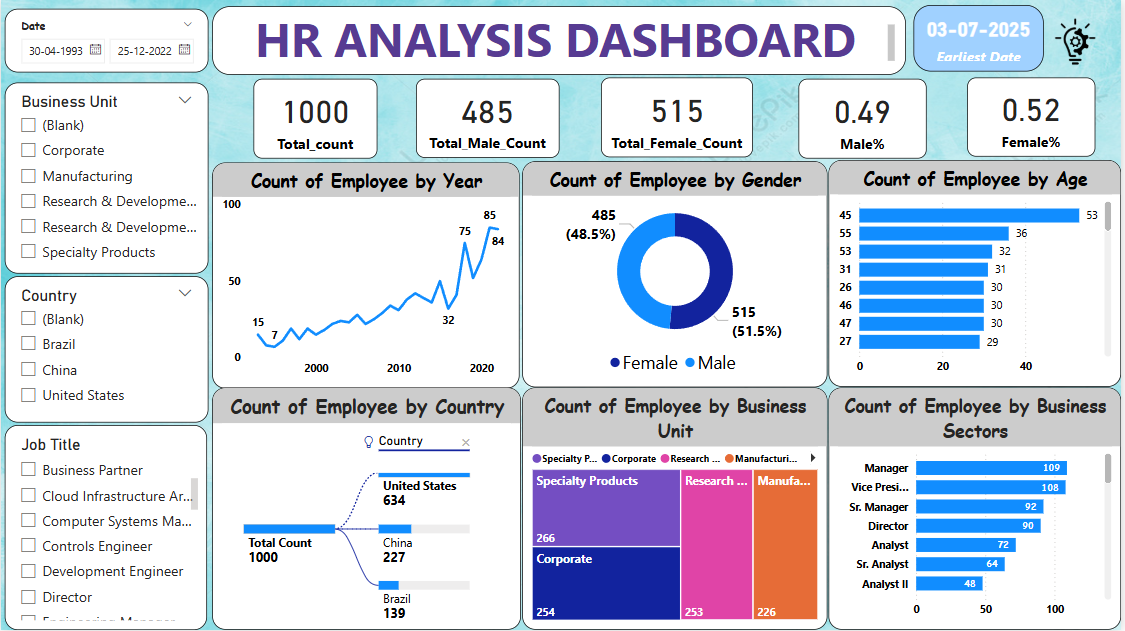

The dashboard page shown, as its layout file describes it:
{"tool":"powerbi","page":{"name":"HR Dashboard","canvas":[1280,720],"ordinal":0},"visuals":[{"type":"lineChart","title":"Count of Employee by Year","fields":{"Category":["Employee Data.Hire Date.Variation.Date Hierarchy.Year"],"Y":["CountNonNull(Employee Data.Employee ID)"]},"box":[241.2,185,351.2,258.8],"z":0},{"type":"donutChart","title":"Count of Employee by Gender","fields":{"Category":["Employee Data.Gender"],"Y":["CountNonNull(Employee Data.Employee ID)"]},"box":[595,183.8,348.8,258.8],"z":1000},{"type":"clusteredBarChart","title":"Count of Employee by Age","fields":{"Category":["Employee Data.Age"],"Y":["CountNonNull(Employee Data.Employee ID)"]},"box":[945.8,183.4,334.2,259.4],"z":2000},{"type":"decompositionTreeVisual","title":"Count of Employee by Country","fields":{"Analyze":["CountNonNull(Employee Data.Employee ID)"],"ExplainBy":["Employee Data.Country"]},"box":[241.4,442.9,352.9,277.1],"z":3000},{"type":"treemap","title":"Count of Employee by Business Unit","fields":{"Group":["Employee Data.Business Unit"],"Values":["CountNonNull(Employee Data.Employee ID)"]},"box":[595.7,442.9,348.6,277.1],"z":4000},{"type":"clusteredBarChart","title":"Count of Employee by Business Sectors","fields":{"Category":["Employee Data.Job Title"],"Y":["CountNonNull(Employee Data.Employee ID)"]},"box":[945.7,442.9,334.3,277.1],"z":5000},{"type":"slicer","fields":{"Values":["Employee Data.Business Unit"]},"box":[3.8,93.8,232.5,218.8],"z":6000},{"type":"slicer","fields":{"Values":["Employee Data.Country"]},"box":[3.8,315,232.5,167.5],"z":7000},{"type":"slicer","fields":{"Values":["Employee Data.Job Title"]},"box":[4.3,485.7,231.4,234.3],"z":8000},{"type":"slicer","fields":{"Values":["Employee Data.Hire Date"]},"box":[3.8,10,232.5,72.5],"z":9000},{"type":"textbox","box":[241.2,7.5,792.5,78.8],"z":10000},{"type":"card","fields":{"Values":["Min(Query1.Date)"]},"box":[1042.5,6.2,148.8,76.2],"z":11000},{"type":"image","box":[1176.2,3.8,103.8,86.2],"z":12000},{"type":"card","fields":{"Values":["Employee Data.Total_count"]},"box":[288.8,90,141.2,91.2],"z":13000},{"type":"card","fields":{"Values":["Employee Data.Total_Male_Count"]},"box":[473.8,90,163.8,90],"z":14000},{"type":"card","fields":{"Values":["Employee Data.Total_Female_Count"]},"box":[686.2,88.8,173.8,91.2],"z":15000},{"type":"card","fields":{"Values":["Employee Data.Male%"]},"box":[911.2,90,146.2,91.2],"z":16000},{"type":"card","fields":{"Values":["Employee Data.Female%"]},"box":[1103.8,88.8,146.2,90],"z":17000}]}

Visuals, with their boxes in screenshot pixels (x1, y1, x2, y2), scaled from the page's 1280x720 canvas onto the 1125x631 screenshot:
"Count of Employee by Year" lineChart: rect(212, 162, 521, 389)
"Count of Employee by Gender" donutChart: rect(523, 161, 830, 388)
"Count of Employee by Age" clusteredBarChart: rect(831, 161, 1124, 388)
"Count of Employee by Country" decompositionTreeVisual: rect(212, 388, 522, 630)
"Count of Employee by Business Unit" treemap: rect(524, 388, 830, 630)
"Count of Employee by Business Sectors" clusteredBarChart: rect(831, 388, 1124, 630)
slicer - Employee Data.Business Unit: rect(3, 82, 208, 274)
slicer - Employee Data.Country: rect(3, 276, 208, 423)
slicer - Employee Data.Job Title: rect(4, 426, 207, 630)
slicer - Employee Data.Hire Date: rect(3, 9, 208, 72)
textbox: rect(212, 7, 909, 76)
card - Min(Query1.Date): rect(916, 5, 1047, 72)
image: rect(1034, 3, 1124, 79)
card - Employee Data.Total_count: rect(254, 79, 378, 159)
card - Employee Data.Total_Male_Count: rect(416, 79, 560, 158)
card - Employee Data.Total_Female_Count: rect(603, 78, 756, 158)
card - Employee Data.Male%: rect(801, 79, 929, 159)
card - Employee Data.Female%: rect(970, 78, 1099, 157)
